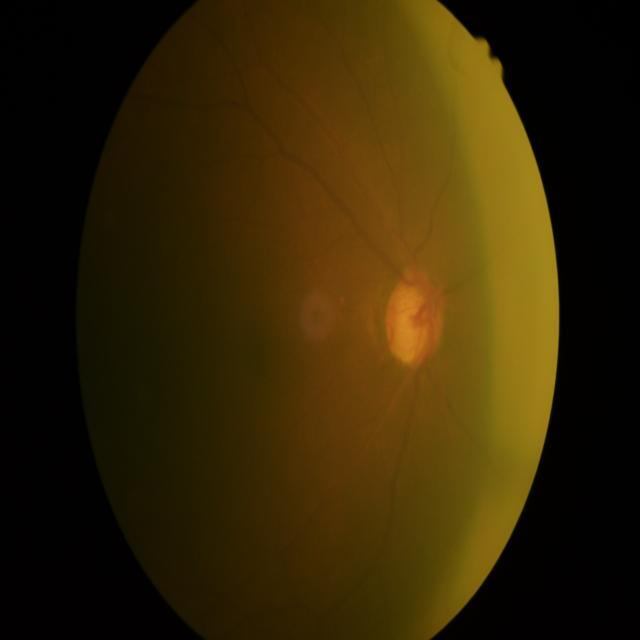cup: (394, 284, 436, 362)
disk: (386, 270, 446, 366)
